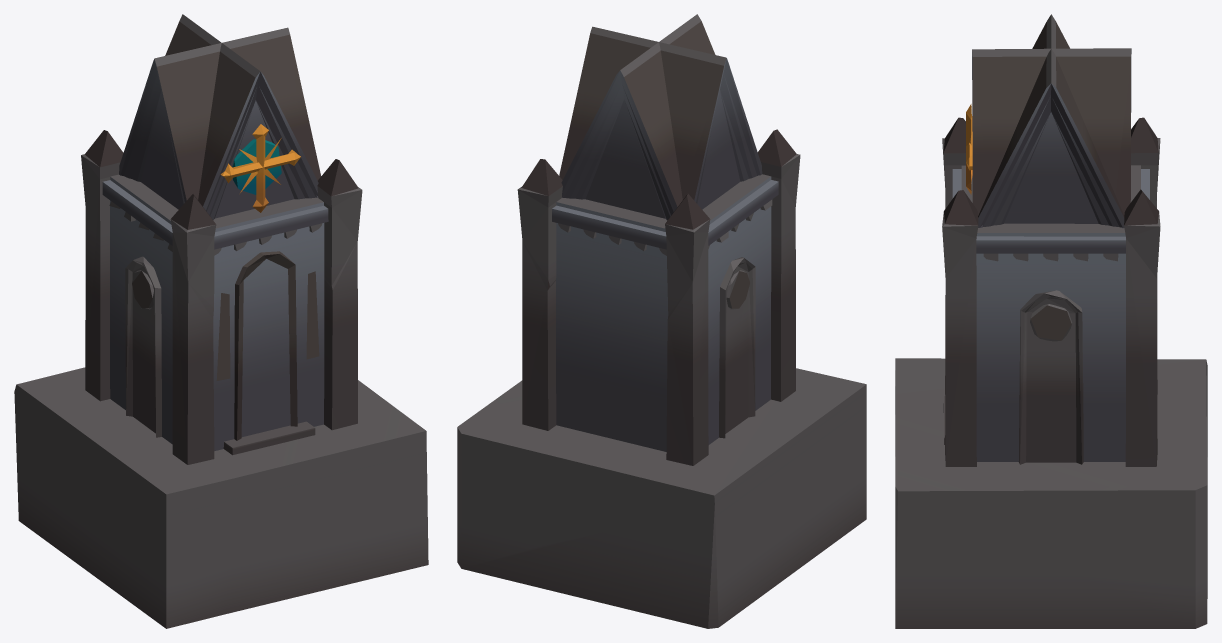
Rendered from Crypt_03_2.fbx.
3 views of the same model, side by side, from view 1: azimuth 30°, elevation 25°; view 2: azimuth 150°, elevation 25°; view 3: azimuth 270°, elevation 25° (orthographic). The views are drawn at different scales.
Visible parts, largest first — view 1: Crypt_03_2; view 2: Crypt_03_2; view 3: Crypt_03_2.
Part boxes in pixels (x1,y1,x2,y2): Crypt_03_2: [14, 14, 428, 628]; Crypt_03_2: [457, 14, 866, 628]; Crypt_03_2: [895, 14, 1207, 628].
Size of the model in its own units: 600 by 1092 by 600.
